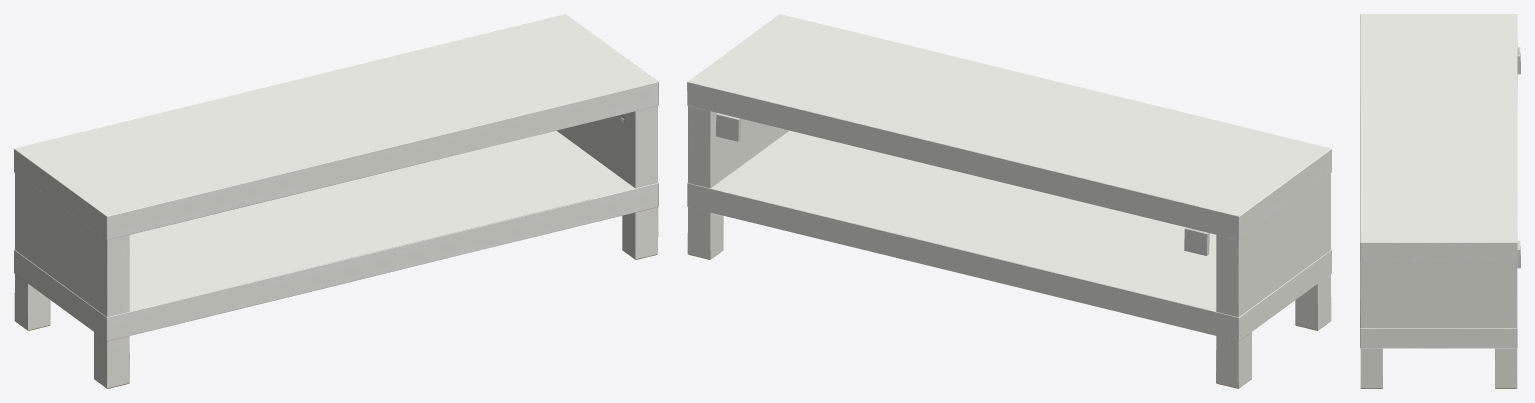
File: lack_szafka_pod_tv_30498890.glb
3 renders of one model, left to right at view 1: azimuth 30°, elevation 25°; view 2: azimuth 150°, elevation 25°; view 3: azimuth 270°, elevation 25°, orthographic. The views are drawn at different scales.
Visible parts, largest first — view 1: lack_szafka_pod_tv_30498890; view 2: lack_szafka_pod_tv_30498890; view 3: lack_szafka_pod_tv_30498890.
Boxes of the visible parts, x1,y1,x2,y2 form: lack_szafka_pod_tv_30498890: (14, 14, 658, 388); lack_szafka_pod_tv_30498890: (687, 14, 1331, 388); lack_szafka_pod_tv_30498890: (1360, 14, 1520, 388).
Bounding box in the file's own units: 1.2 × 0.3601 × 0.357.
Materials: 1 (1 with a texture image).
